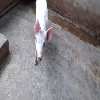heo: (30, 17, 55, 67)
